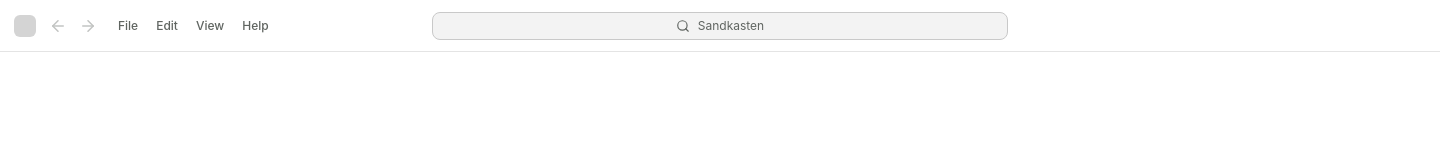
Scenario: integrated desktop header › recovers from a rejected native menu instead of leaving it expanded
Click the button "Help". click: click(256, 26)
box: [234,12,277,38]
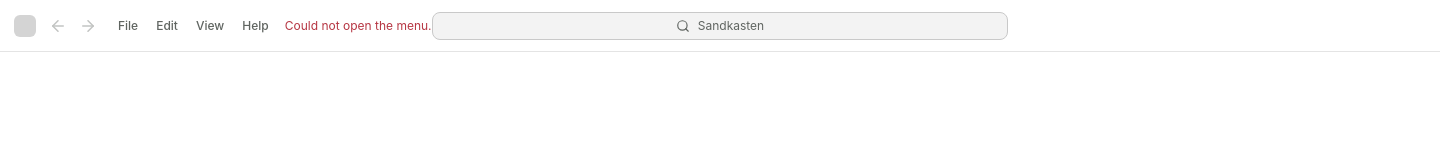
Now the message "Could not open the menu." is shown, box [285,16,432,34]
